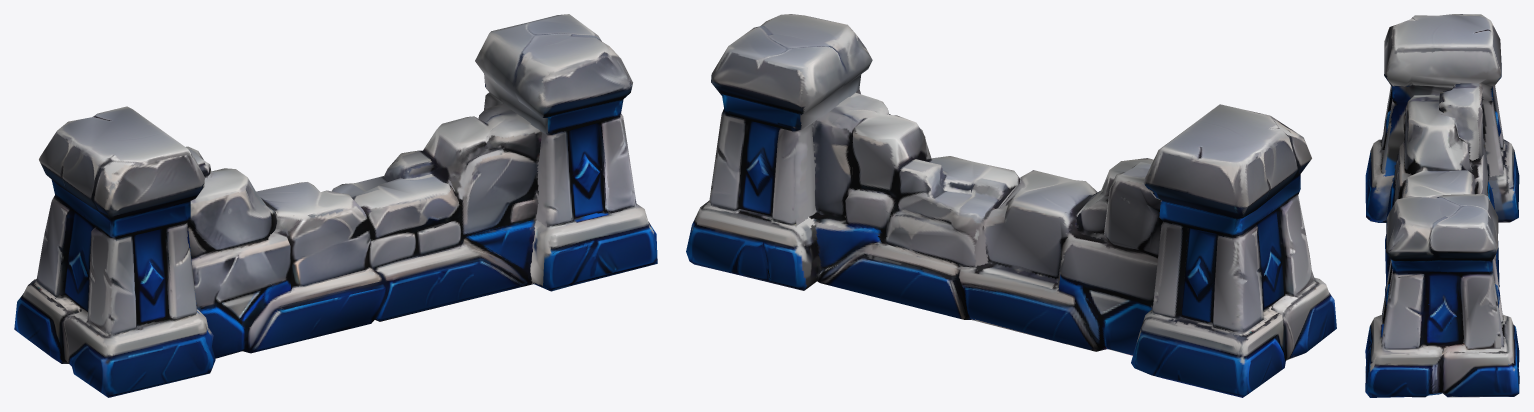
File: ruins-broken-wall-cover_LOD1.glb
3 views of the same model, side by side, from view 1: azimuth 30°, elevation 25°; view 2: azimuth 150°, elevation 25°; view 3: azimuth 270°, elevation 25° (orthographic). The views are drawn at different scales.
Visible parts, largest first — view 1: ruins-broken-wall-cover_LOD1; view 2: ruins-broken-wall-cover_LOD1; view 3: ruins-broken-wall-cover_LOD1.
Boxes of the visible parts, x1,y1,x2,y2 form: ruins-broken-wall-cover_LOD1: (14, 14, 657, 397); ruins-broken-wall-cover_LOD1: (686, 14, 1336, 397); ruins-broken-wall-cover_LOD1: (1365, 14, 1519, 397).
Bounding box in the file's own units: 2.96 × 1.1 × 0.878.
Materials: 1 (1 with a texture image).
